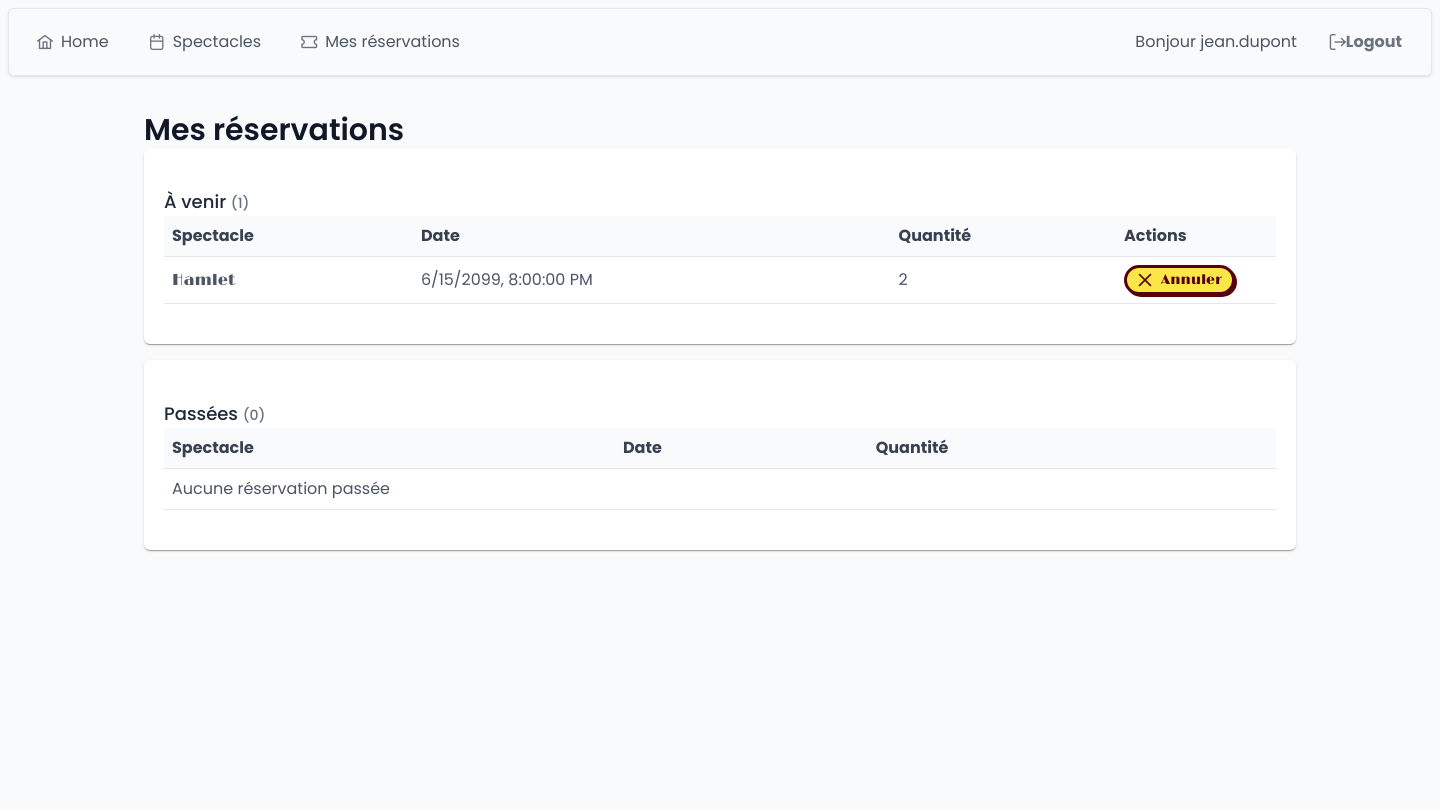
Test case: ReservationsPage — Groupe 8 : annulation › si DELETE retourne 400, un toast d'erreur est affiché
Check: the text "Hamlet" is shown, box x1=164 y1=256 x2=413 y2=304
Click the button "Annuler". click: {"x": 1179, "y": 280}
box: x1=1124 y1=265 x2=1235 y2=295
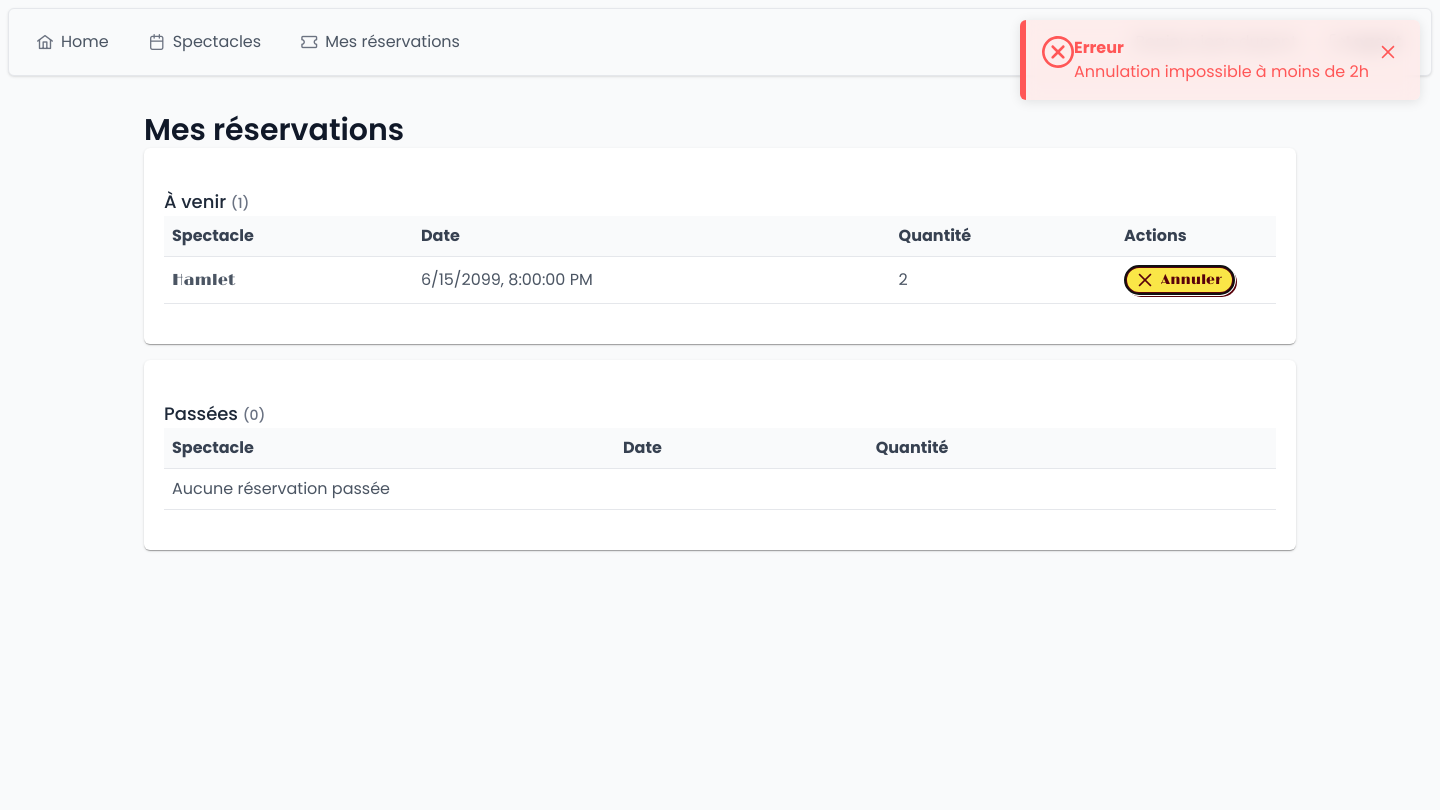
Check: the text "Erreur" is shown, box x1=1074 y1=36 x2=1124 y2=59
